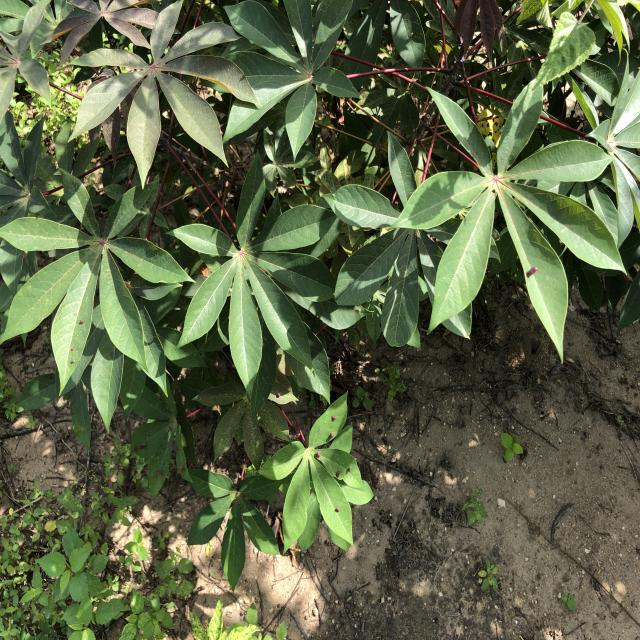Maleza: (2, 497, 198, 640)
Mosca: (332, 461, 354, 480), (520, 261, 544, 275), (66, 344, 79, 368), (326, 411, 342, 424), (73, 315, 87, 328), (310, 446, 321, 461), (332, 505, 341, 518)
